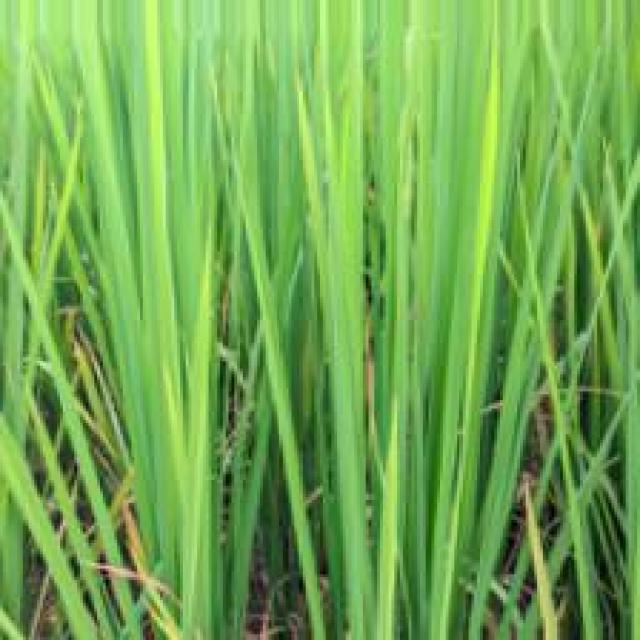HealthyLeaf: (144, 34, 206, 566), (432, 38, 510, 291)
